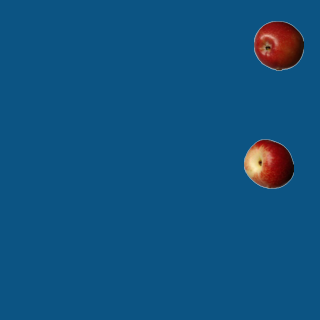Apple Braeburn: (253, 20, 303, 70)
Nectarine: (243, 138, 293, 188)
